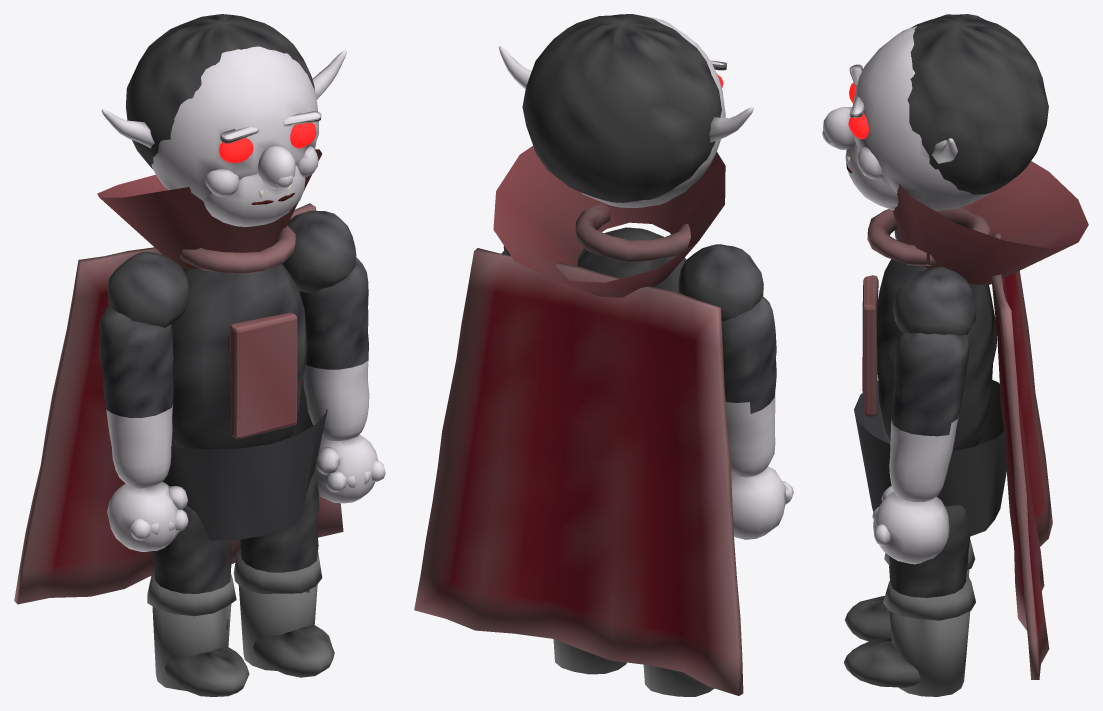
3 views of the same model, side by side, from view 1: azimuth 30°, elevation 25°; view 2: azimuth 150°, elevation 25°; view 3: azimuth 270°, elevation 25° (orthographic). The views are drawn at different scales.
Parts seen in each view (by area): view 1: torso, head, cape, armR, armL, legR, legL; view 2: cape, head, torso, armR, legR, legL; view 3: torso, head, armL, legL, cape, legR.
Part boxes in pixels (bbox=[...]): torso: bbox=[97, 149, 356, 540]; head: bbox=[101, 14, 346, 226]; cape: bbox=[14, 203, 343, 604]; armR: bbox=[99, 305, 188, 551]; armL: bbox=[299, 257, 385, 503]; legR: bbox=[147, 506, 249, 696]; legL: bbox=[233, 467, 334, 677]; cape: bbox=[414, 248, 743, 695]; head: bbox=[498, 14, 753, 208]; torso: bbox=[493, 146, 763, 442]; armR: bbox=[721, 296, 793, 539]; legR: bbox=[643, 664, 714, 696]; legL: bbox=[553, 639, 626, 674]; torso: bbox=[854, 161, 1088, 536]; head: bbox=[822, 14, 1048, 210]; armL: bbox=[872, 331, 969, 564]; legL: bbox=[843, 505, 975, 696]; cape: bbox=[992, 233, 1052, 679]; legR: bbox=[845, 539, 975, 641].
Size of the model in its own units: 0.5084 by 0.9659 by 0.3655.
